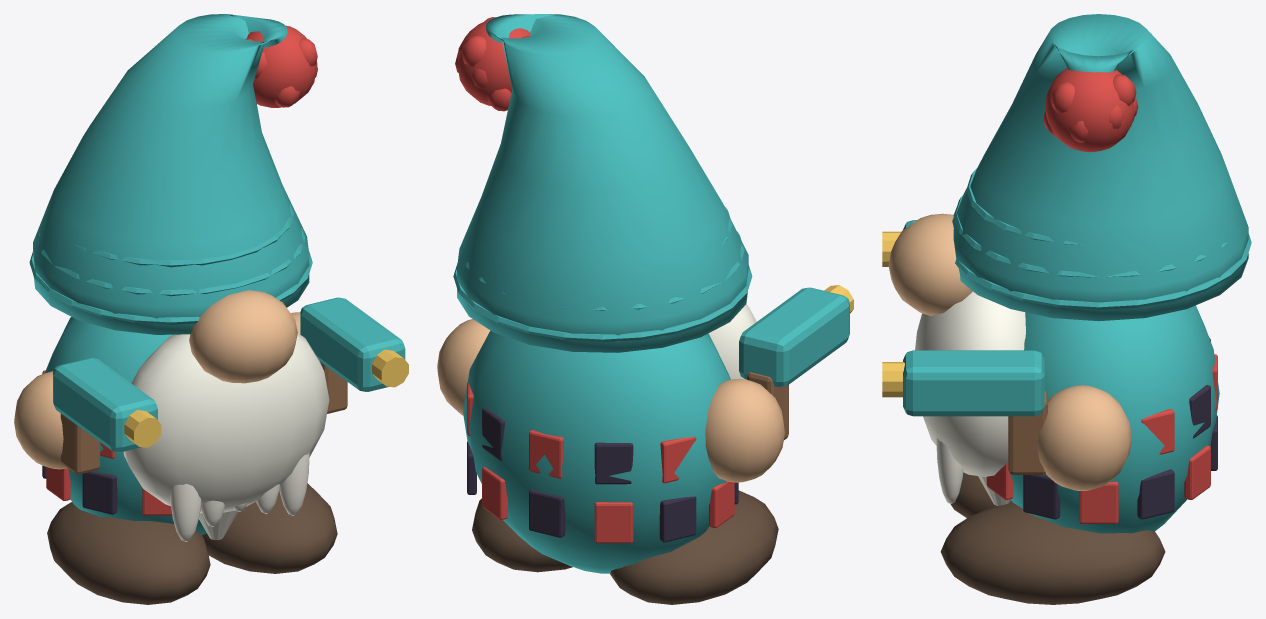
File: gnome-multi.glb
3 views of the same model, side by side, from view 1: azimuth 30°, elevation 25°; view 2: azimuth 150°, elevation 25°; view 3: azimuth 270°, elevation 25° (orthographic). The views are drawn at different scales.
Parts seen in each view (by area): view 1: gnome-multi; view 2: gnome-multi; view 3: gnome-multi.
Boxes of the visible parts, x1,y1,x2,y2 form: gnome-multi: [14, 14, 408, 604]; gnome-multi: [437, 14, 853, 604]; gnome-multi: [882, 14, 1251, 604].
Size of the model in its own units: 0.95 by 1.46 by 0.887.
